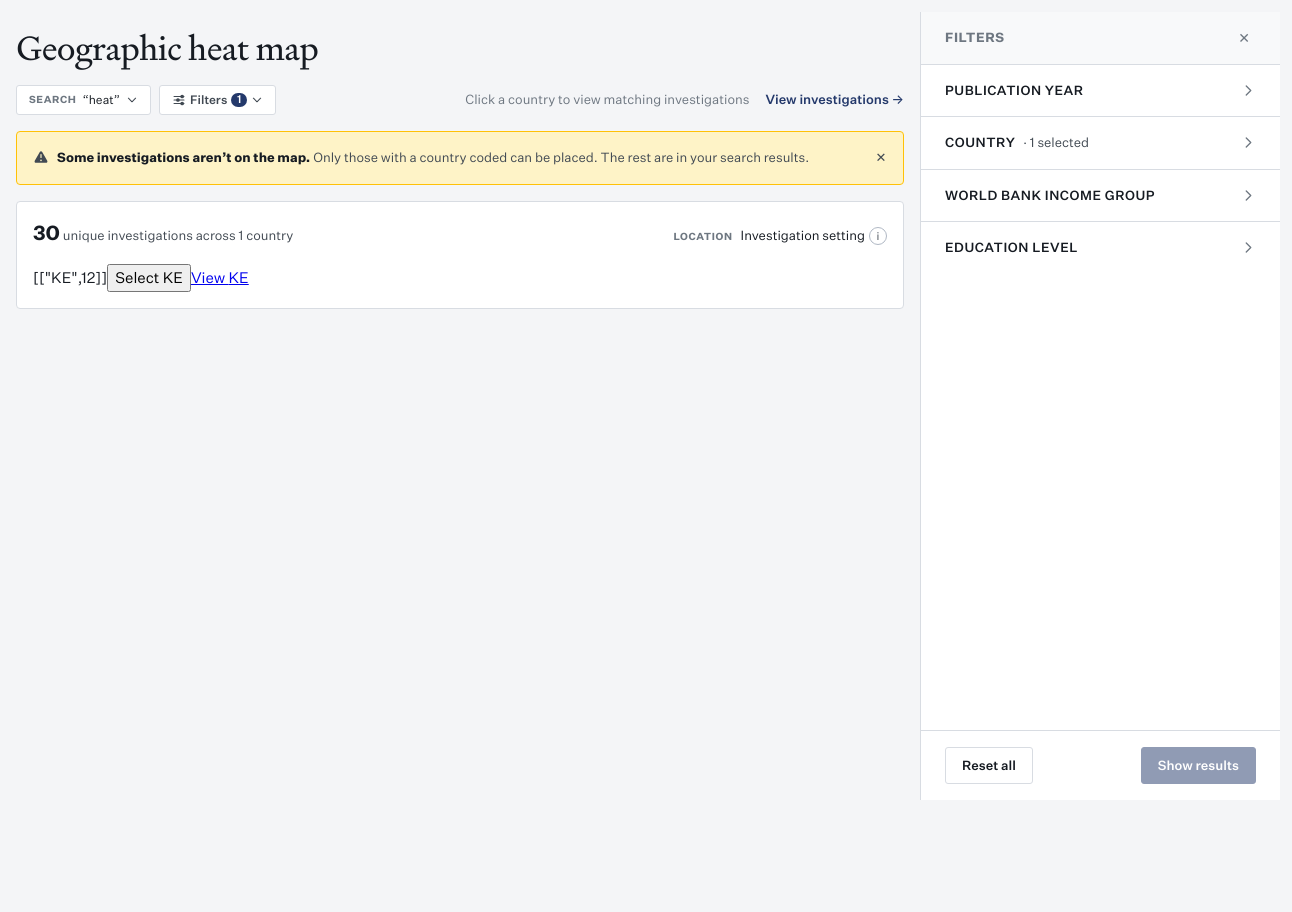
Test case: GeographicHeatMapPage › folds the panel into a Show filters rail
Click the button named "Hide panel" at coordinates (1244, 38), box [1232, 26, 1256, 50]
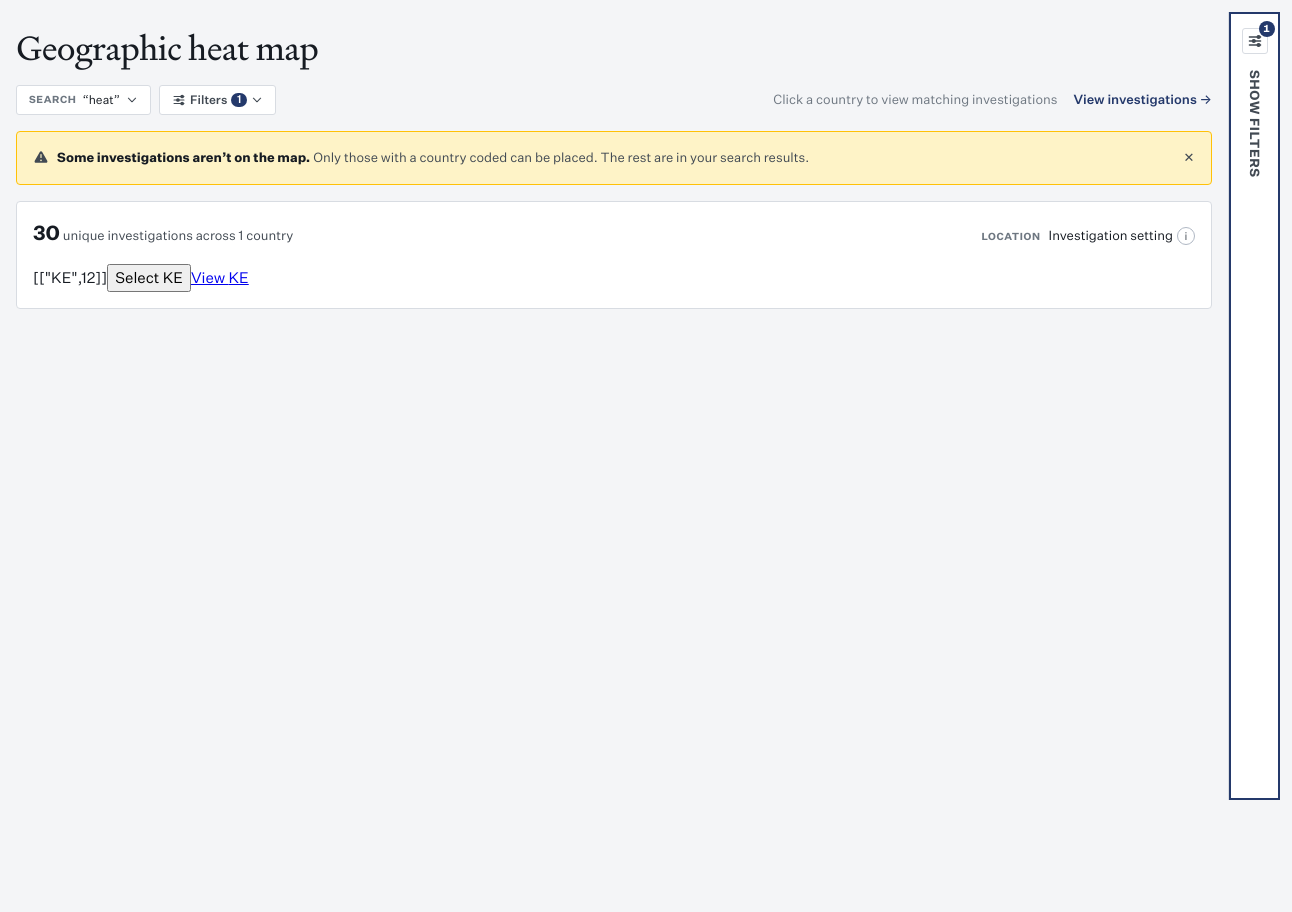
Check: the button with aria-label "Show filters, 1 filter applied" is shown, box [1229, 12, 1280, 800]
